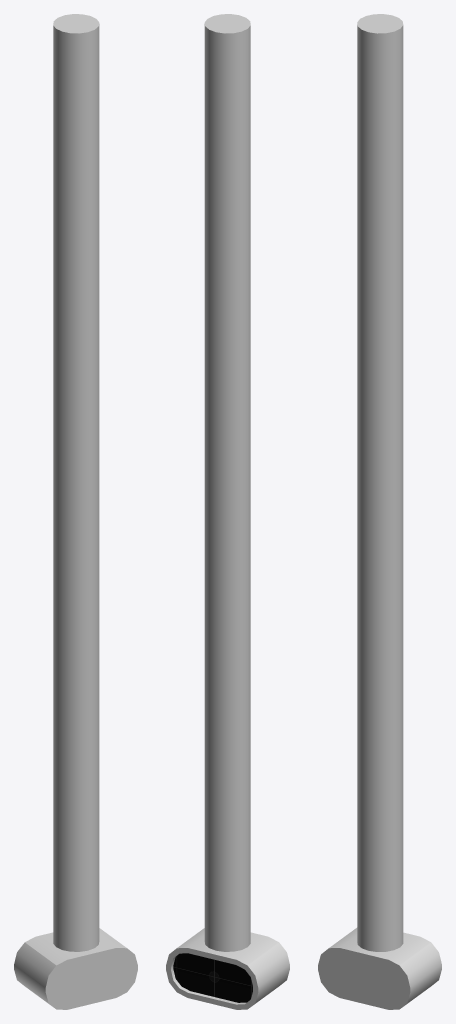
File: SM_Periscope.fbx
The picture shows the model from 3 angles, left to right: view 1: azimuth 30°, elevation 25°; view 2: azimuth 150°, elevation 25°; view 3: azimuth 330°, elevation 25°; orthographic projection.
Visible parts, largest first — view 1: Cylinder.007, Periscope; view 2: Cylinder.007, Periscope, Screen; view 3: Cylinder.007, Periscope.
Boxes of the visible parts, <box> form: Cylinder.007: <box>53,14,99,951</box>; Periscope: <box>14,928,137,1009</box>; Cylinder.007: <box>204,14,250,951</box>; Periscope: <box>166,928,289,1009</box>; Screen: <box>173,953,252,1002</box>; Cylinder.007: <box>357,14,403,951</box>; Periscope: <box>318,927,441,1009</box>.
Size of the model in its own units: 0.5607 by 5.64 by 0.3344.
2 materials, 1 textured.
